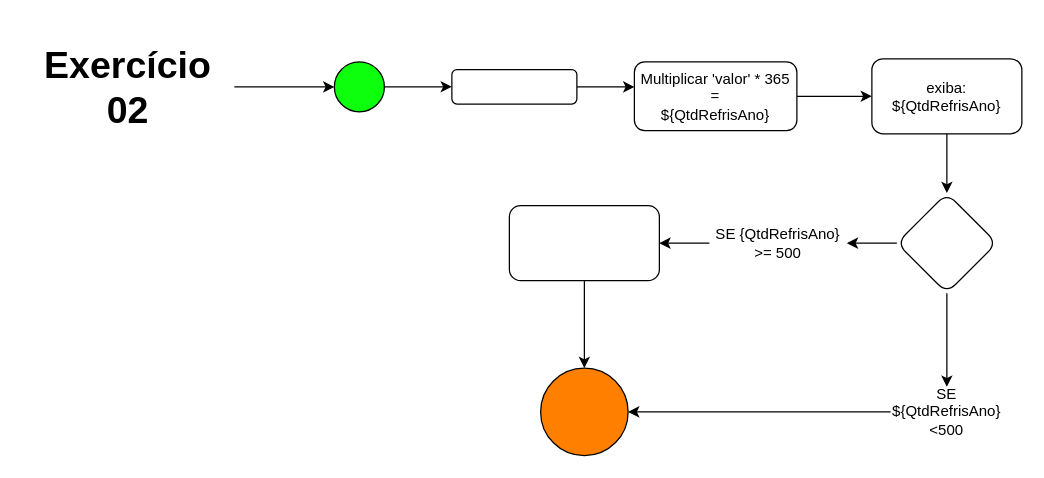
Some shapes in this 1044 by 478 pixel diagram are drawn without their labels. Each missing label, with the centre of its shape:
exiba: 'Cuidado com a diabetes!': point 583,242
receber 'valor': point 514,86
